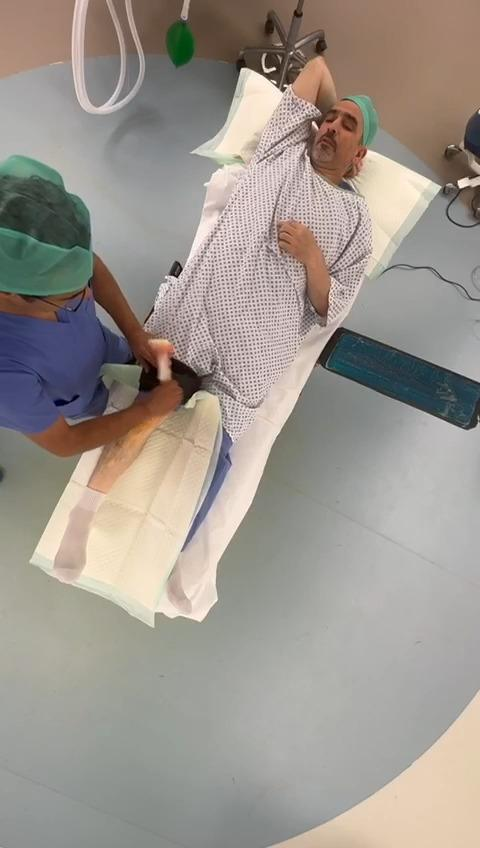patient: (55, 56, 378, 581)
prepstick: (149, 338, 172, 383)
tourniquet: (172, 358, 202, 403), (139, 364, 159, 390)
